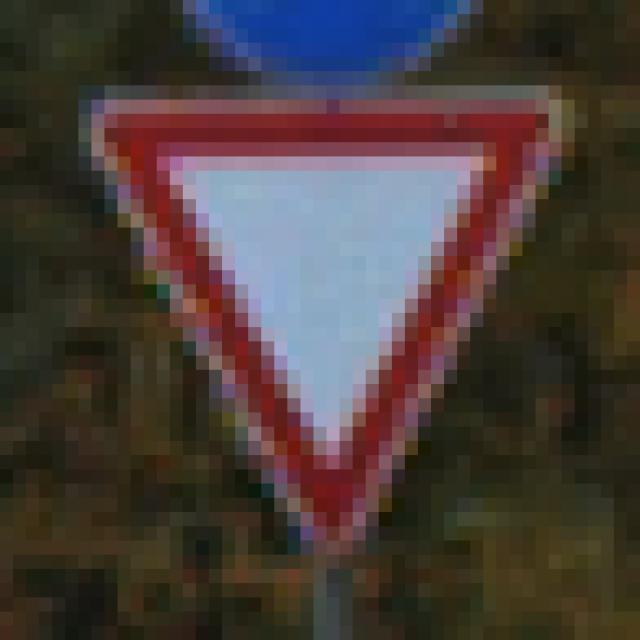Give Way: (66, 72, 563, 556)
